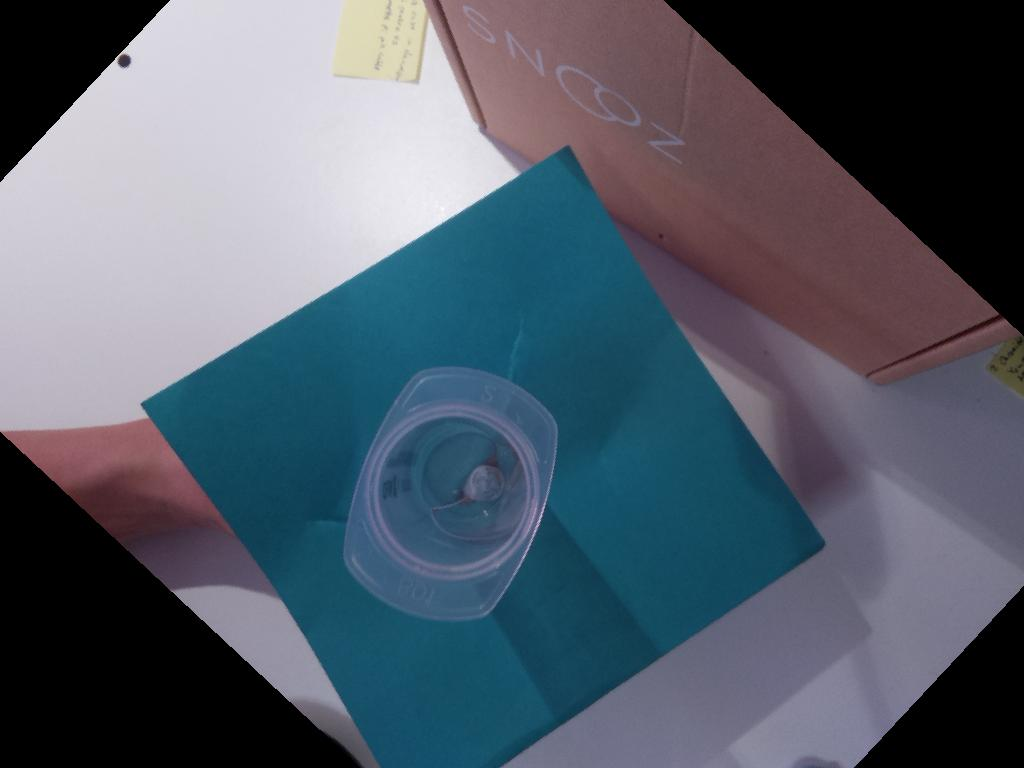clean: (342, 367, 558, 621)
